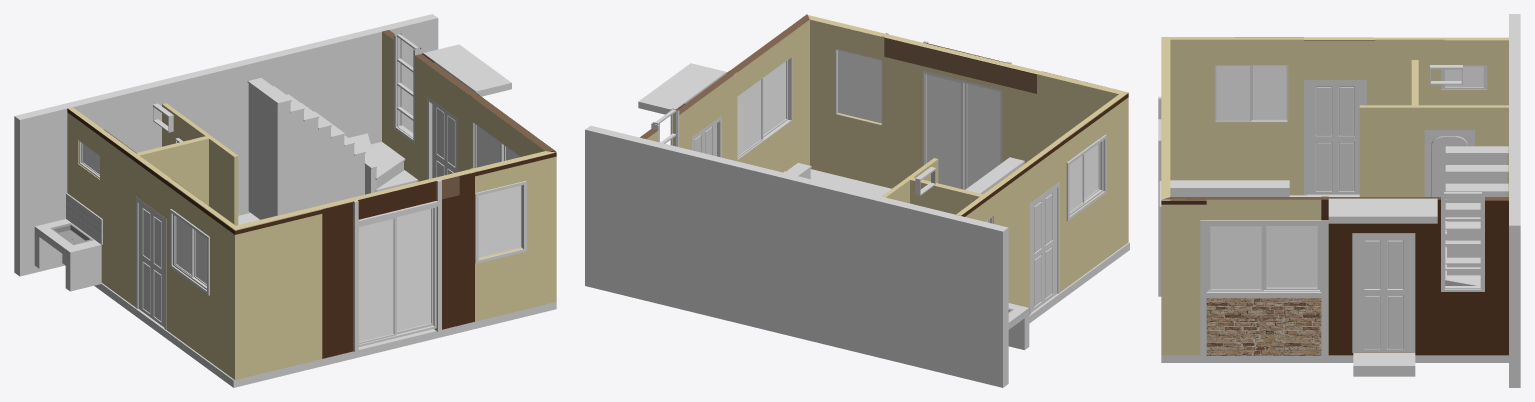
Rendered from linnea_1stfloor11.glb.
3 renders of one model, left to right at view 1: azimuth 30°, elevation 25°; view 2: azimuth 150°, elevation 25°; view 3: azimuth 270°, elevation 25°, orthographic. The views are drawn at different scales.
Visible parts, largest first — view 1: Plane.023; view 2: Plane.023; view 3: Plane.023.
Part boxes in pixels (<box>): Plane.023: <box>14,14,556,387</box>; Plane.023: <box>585,14,1129,387</box>; Plane.023: <box>1158,14,1520,387</box>.
Size of the model in its own units: 7.51 by 2.79 by 5.43.
23 materials, 2 textured.
